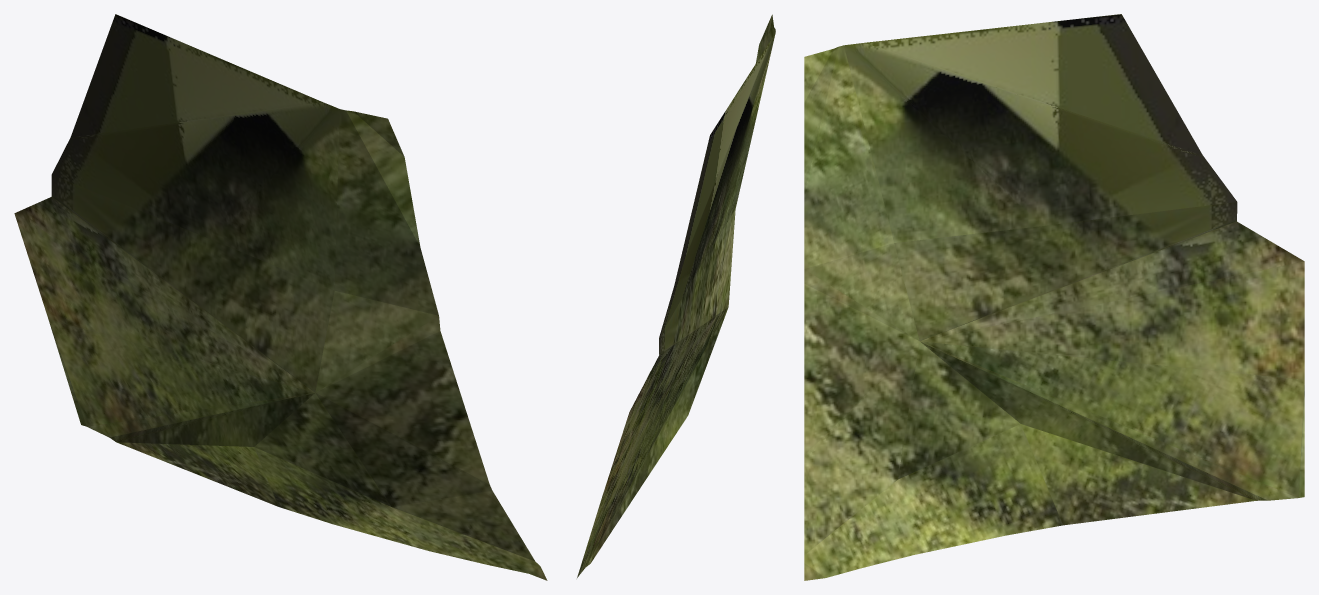
3 views of the same model, side by side, from view 1: azimuth 30°, elevation 25°; view 2: azimuth 150°, elevation 25°; view 3: azimuth 270°, elevation 25° (orthographic). The views are drawn at different scales.
Bounding box in the file's own units: 3.16 × 5.9 × 5.9.
Materials: 3 (3 with a texture image).
